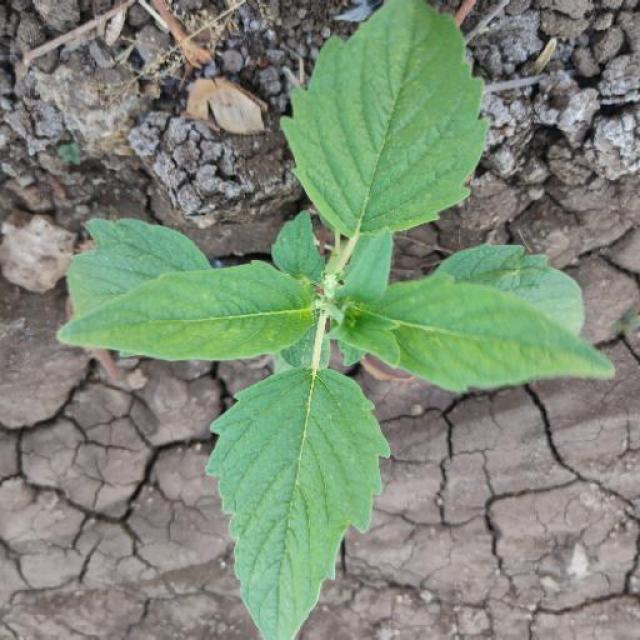crop: (48, 5, 618, 640)
